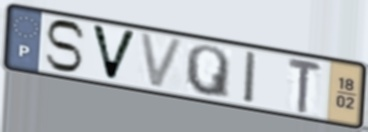I: (242, 49, 258, 107)
Q: (184, 43, 232, 102)
S: (42, 18, 88, 74)
T: (286, 55, 324, 116)
V: (88, 22, 139, 84), (136, 30, 187, 92)
